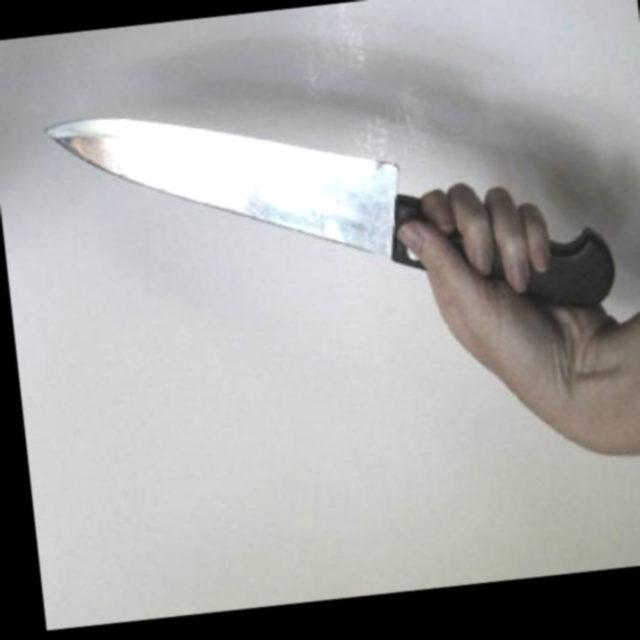Sharp-Object: (45, 62, 619, 363)
